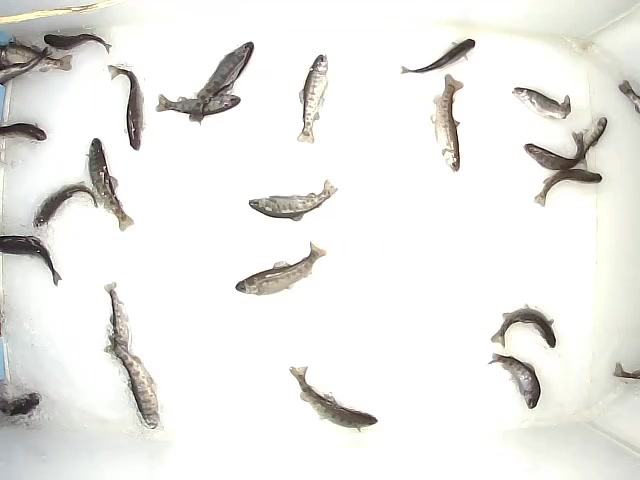fish: (288, 364, 379, 435), (188, 40, 255, 126), (234, 239, 329, 298), (103, 334, 161, 430), (85, 137, 138, 233), (248, 177, 341, 223), (429, 73, 466, 173), (1, 229, 63, 288), (295, 53, 334, 145), (106, 64, 146, 152), (486, 352, 542, 411), (32, 181, 99, 229), (398, 36, 477, 76), (490, 303, 558, 349), (533, 168, 605, 208), (521, 128, 586, 172), (102, 280, 133, 364), (1, 40, 72, 74), (155, 92, 241, 118), (1, 44, 51, 87), (512, 87, 573, 121), (571, 115, 608, 169), (43, 32, 114, 55), (1, 121, 46, 145), (616, 79, 640, 114), (48, 45, 49, 51)
